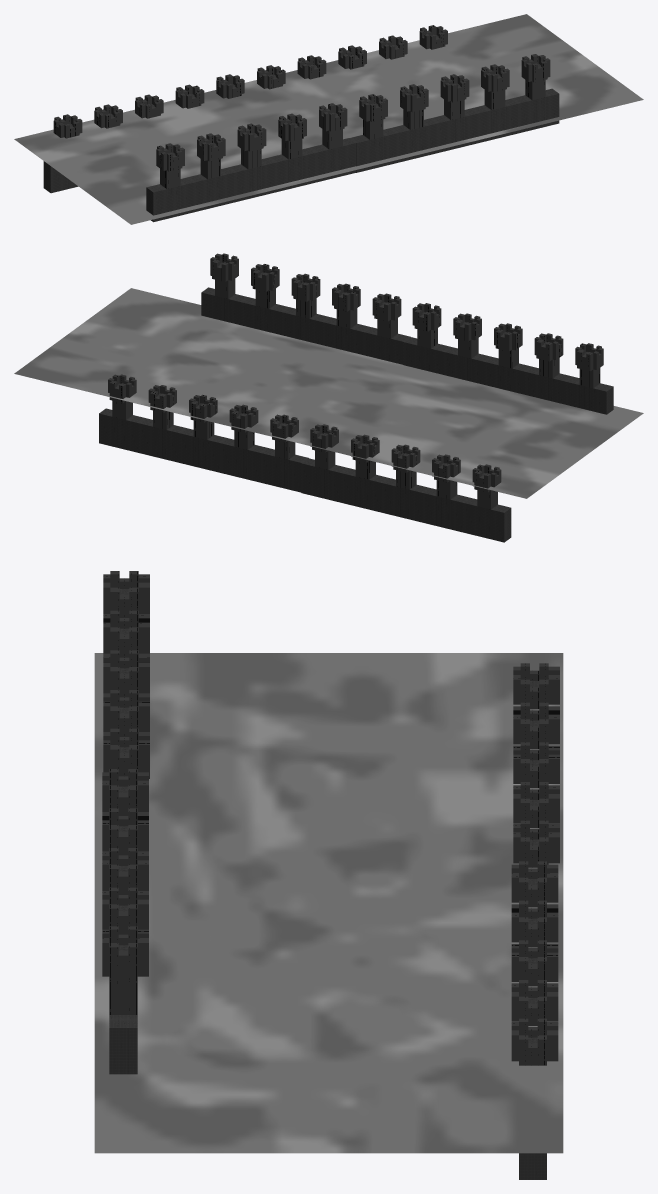
Rendered from bossGround.obj.
3 renders of one model, top to bottom at view 1: azimuth 30°, elevation 25°; view 2: azimuth 150°, elevation 25°; view 3: azimuth 270°, elevation 25°, orthographic. The views are drawn at different scales.
Visible parts, largest first — view 1: 平面, 立方体, 立方体.005; view 2: 平面, 立方体.005, 立方体; view 3: 平面, 立方体, 立方体.005.
Boxes of the visible parts, box(x1,y1,x2,y2) form: 平面: box(14, 14, 643, 224); 立方体: box(146, 54, 559, 222); 立方体.005: box(43, 25, 447, 193); 平面: box(14, 288, 643, 498); 立方体.005: box(99, 374, 511, 542); 立方体: box(201, 253, 613, 414); 平面: box(94, 653, 563, 1153); 立方体: box(102, 571, 149, 1074); 立方体.005: box(511, 663, 559, 1179).
Bounding box in the file's own units: 126 × 26.33 × 50.
Materials: 5 (5 with a texture image).
